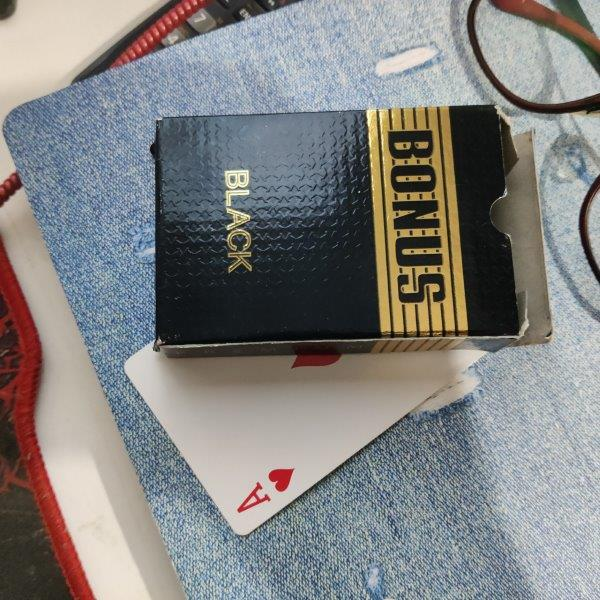Ace of Hearts: (124, 340, 488, 537)
